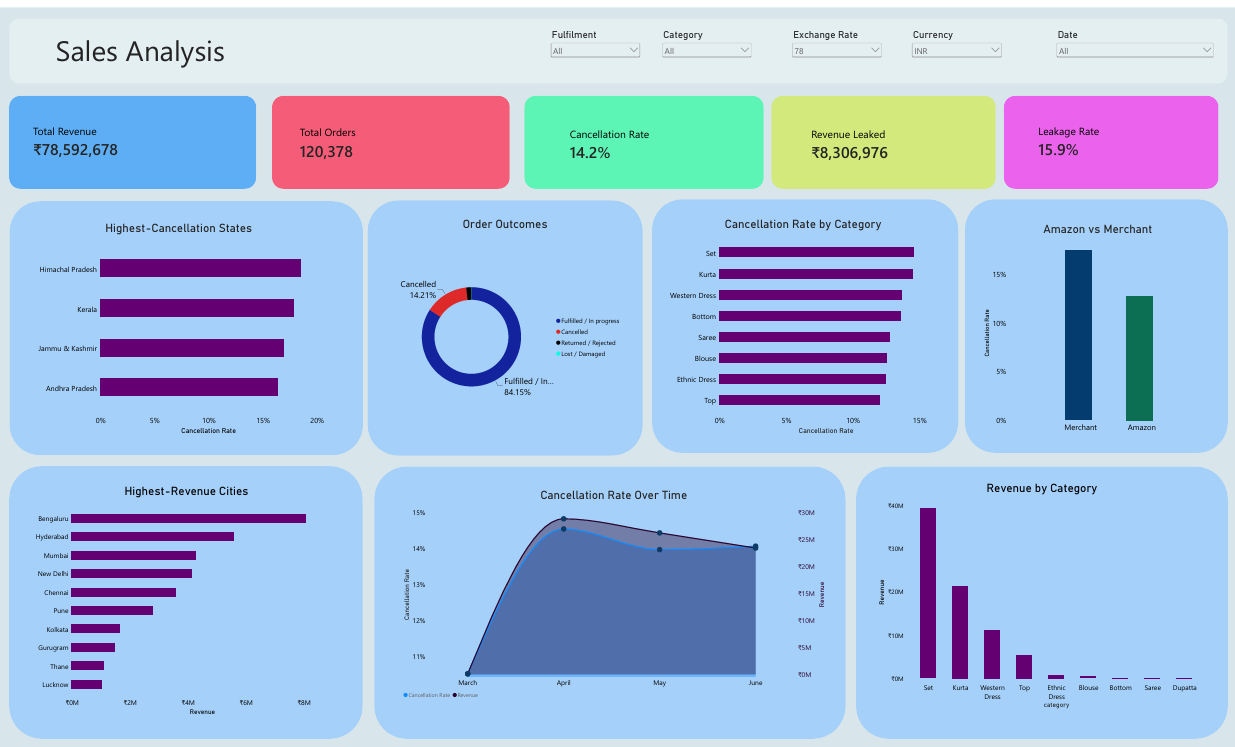

Layout of this report page (visuals, bound fields, positions):
{"tool":"powerbi","page":{"name":"Dashboard","canvas":[3200,1900],"ordinal":0},"visuals":[{"type":"shape","box":[0,0,3200,1899.4],"z":0},{"type":"shape","box":[37.8,227.1,633.1,237.4],"z":1},{"type":"shape","box":[956.6,495.5,705.4,653.8],"z":2},{"type":"shape","box":[973.8,1176.8,1207.7,698.5],"z":3},{"type":"shape","box":[38.1,1175.6,905.5,699],"z":4},{"type":"shape","box":[2587.5,227.1,550.5,237.4],"z":6},{"type":"shape","box":[1992.3,227.1,574.6,237.4],"z":7},{"type":"shape","box":[1359.1,227.1,612.5,237.4],"z":8},{"type":"shape","box":[37.8,27.5,3124.3,168.6],"z":9},{"type":"shape","box":[2209,1176.8,953.1,698.5],"z":10},{"type":"textbox","box":[114.4,58.9,520.1,110.9],"z":11},{"type":"slicer","fields":{"Values":["Currency.Currency"]},"box":[2346.7,55.1,240.9,89.5],"z":12},{"type":"slicer","fields":{"Values":["INR per USD.INR per USD"]},"box":[2040.4,55.1,239.2,90.1],"z":13},{"type":"slicer","fields":{"Values":["Sales.category"]},"box":[1706.7,55.1,239.5,90.8],"z":14},{"type":"slicer","fields":{"Values":["Sales.fulfilment"]},"box":[1421.1,55.1,239.5,90.8],"z":15},{"type":"slicer","fields":{"Values":["Sales.date.Variation.Date Hierarchy.Year","Sales.date.Variation.Date Hierarchy.Month"]},"box":[2718.3,55.1,412.9,92.9],"z":16},{"type":"shape","box":[712.3,227.1,609,237.4],"z":17},{"type":"cardVisual","title":"Revenue","fields":{"Data":["Sales.Revenue Card"]},"box":[82.6,244.3,498.9,199.6],"z":18},{"type":"cardVisual","title":"Revenue","fields":{"Data":["Sales.Leakage Rate"]},"box":[2659.8,254.6,409.1,176.8],"z":19},{"type":"cardVisual","title":"Revenue","fields":{"Data":["Sales.Cancellation Rate"]},"box":[1458.9,264.9,409.1,173.4],"z":20},{"type":"cardVisual","title":"Revenue","fields":{"Data":["Sales.Total Orders Card"]},"box":[767.3,258.1,409.1,180.3],"z":21},{"type":"cardVisual","title":"Revenue","fields":{"Data":["Sales.Revenue Leaked Card"]},"box":[2078.3,261.5,409.5,178.9],"z":22},{"type":"shape","box":[38.7,496.8,906.5,651.6],"z":27},{"type":"clusteredBarChart","title":"Highest-Cancellation States","fields":{"Category":["Sales.ship_state"],"Y":["Sales.Cancellation Rate"]},"box":[83.9,535.5,777.4,574.2],"z":28},{"type":"shape","box":[1686,492,784.5,650.3],"z":29},{"type":"shape","box":[2487.7,492,674.4,650.3],"z":30},{"type":"lineChart","title":"Cancellation Rate Over Time","fields":{"Category":["Sales.date.Variation.Date Hierarchy.Year","Sales.date.Variation.Date Hierarchy.Quarter","Sales.date.Variation.Date Hierarchy.Month","Sales.date.Variation.Date Hierarchy.Day"],"Y":["Sales.Cancellation Rate"],"Y2":["Sales.Revenue"]},"box":[1032.3,1218.1,1111.4,574.6],"z":31},{"type":"donutChart","title":"Order Outcomes","fields":{"Category":["Sales.Outcome"],"Y":["Sales.Total Line Items"]},"box":[991,523,636.6,595.3],"z":32},{"type":"clusteredBarChart","title":"Cancellation Rate by Category","fields":{"Category":["Sales.category"],"Y":["Sales.Cancellation Rate"]},"box":[1706.7,523,732.9,588.4],"z":33},{"type":"clusteredColumnChart","title":"Amazon vs Merchant","fields":{"Category":["Sales.fulfilment"],"Y":["Sales.Cancellation Rate"]},"box":[2518.7,536.8,619.4,574.6],"z":34},{"type":"clusteredBarChart","title":"Highest-Revenue Cities","fields":{"Category":["Sales.ship_city"],"Y":["Sales.Revenue"]},"box":[82.6,1207.7,818.9,622.8],"z":35},{"type":"clusteredColumnChart","title":"Revenue by Category","fields":{"Category":["Sales.category"],"Y":["Sales.Revenue"]},"box":[2250.3,1200.9,870.5,612.5],"z":36}]}

Visuals, with their boxes in screenshot pixels (x1, y1, x2, y2), scaled from the page's 3200x1900 canvas onto the 1235x747 screenshot:
shape: crop(0, 0, 1234, 746)
shape: crop(15, 89, 259, 183)
shape: crop(369, 195, 641, 452)
shape: crop(376, 463, 842, 737)
shape: crop(15, 462, 364, 737)
shape: crop(999, 89, 1211, 183)
shape: crop(769, 89, 991, 183)
shape: crop(525, 89, 761, 183)
shape: crop(15, 11, 1220, 77)
shape: crop(853, 463, 1220, 737)
textbox: crop(44, 23, 245, 67)
slicer - Currency.Currency: crop(906, 22, 999, 57)
slicer - INR per USD.INR per USD: crop(787, 22, 880, 57)
slicer - Sales.category: crop(659, 22, 751, 57)
slicer - Sales.fulfilment: crop(548, 22, 641, 57)
slicer - Sales.date.Variation.Date Hierarchy.Year x Sales.date.Variation.Date Hierarchy.Month: crop(1049, 22, 1208, 58)
shape: crop(275, 89, 510, 183)
"Revenue" cardVisual: crop(32, 96, 224, 175)
"Revenue" cardVisual: crop(1027, 100, 1184, 170)
"Revenue" cardVisual: crop(563, 104, 721, 172)
"Revenue" cardVisual: crop(296, 101, 454, 172)
"Revenue" cardVisual: crop(802, 103, 960, 173)
shape: crop(15, 195, 365, 452)
"Highest-Cancellation States" clusteredBarChart: crop(32, 211, 332, 436)
shape: crop(651, 193, 953, 449)
shape: crop(960, 193, 1220, 449)
"Cancellation Rate Over Time" lineChart: crop(398, 479, 827, 705)
"Order Outcomes" donutChart: crop(382, 206, 628, 440)
"Cancellation Rate by Category" clusteredBarChart: crop(659, 206, 942, 437)
"Amazon vs Merchant" clusteredColumnChart: crop(972, 211, 1211, 437)
"Highest-Revenue Cities" clusteredBarChart: crop(32, 475, 348, 720)
"Revenue by Category" clusteredColumnChart: crop(868, 472, 1204, 713)
